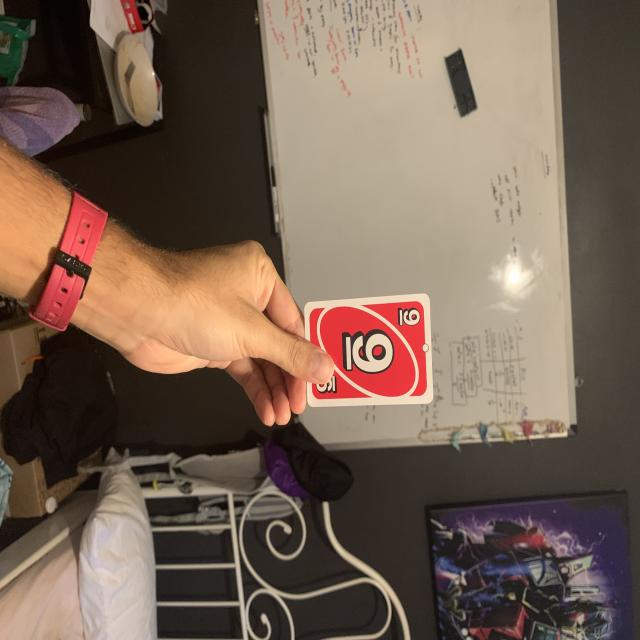lred-9: (394, 302, 424, 332)
